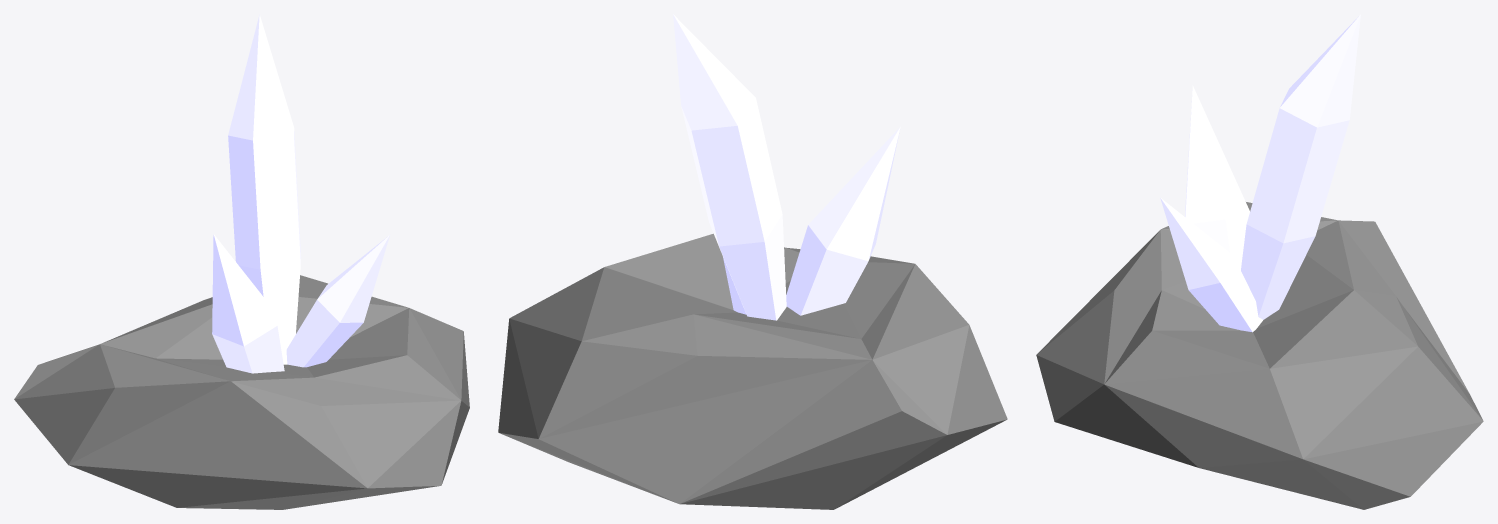
File: Ore_Aetherium_2.glb
3 renders of one model, left to right at view 1: azimuth 30°, elevation 25°; view 2: azimuth 150°, elevation 25°; view 3: azimuth 270°, elevation 25°, orthographic. The views are drawn at different scales.
Parts seen in each view (by area): view 1: Aetherium_Ore_2; view 2: Aetherium_Ore_2; view 3: Aetherium_Ore_2.
Boxes of the visible parts, x1,y1,x2,y2 form: Aetherium_Ore_2: [14, 14, 469, 509]; Aetherium_Ore_2: [498, 14, 1007, 509]; Aetherium_Ore_2: [1036, 14, 1483, 509].
Bounding box in the file's own units: 3.81 × 3.68 × 3.33.
Materials: 1 (1 with a texture image).
